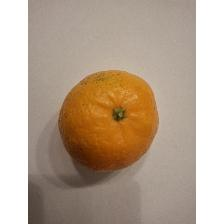Orange: (56, 68, 162, 174)
